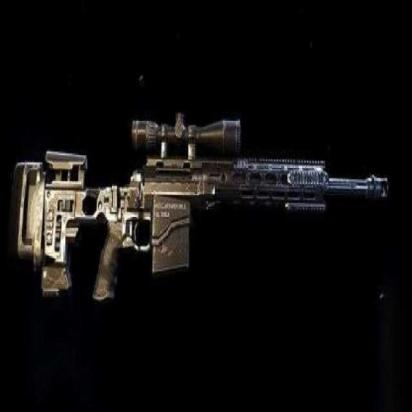Gun: (7, 87, 395, 329)
